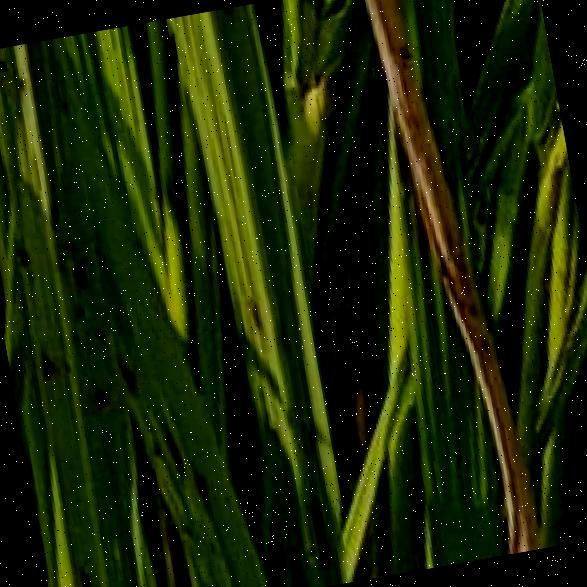Bacteria_Leaf_Blight: (360, 0, 552, 554)
